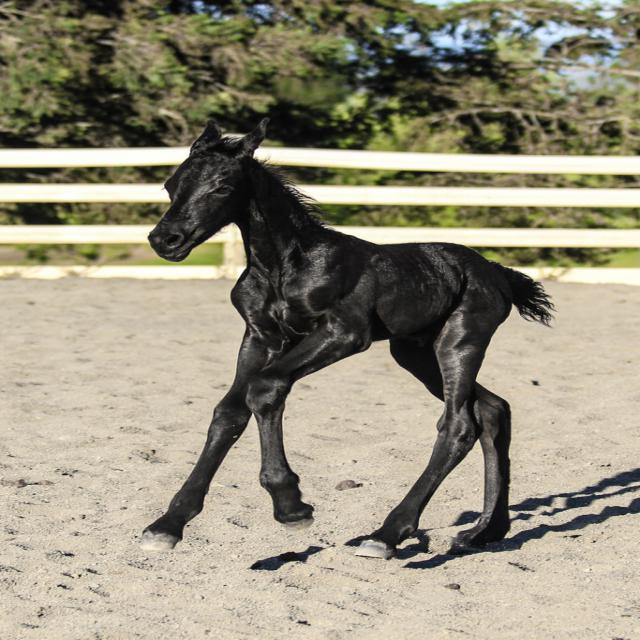Horse: (140, 116, 556, 550)
